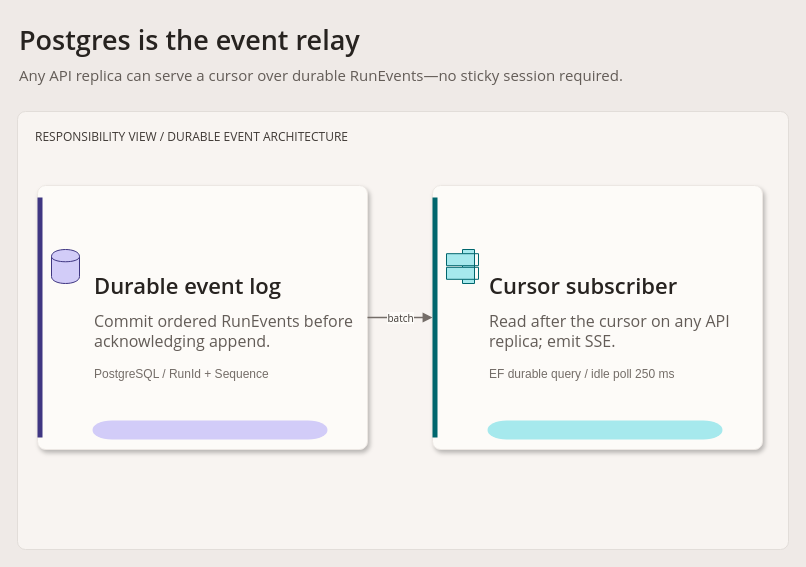
Some shapes in this 806 by 567 pixel diagram are drawn without their labels. The shapes that lost their labels are listed below. From the top down, each one's centre as x and y in pixels, then its label:
At [209,429]: "PERSISTENCE".
At [604,429]: "DELIVERY".
